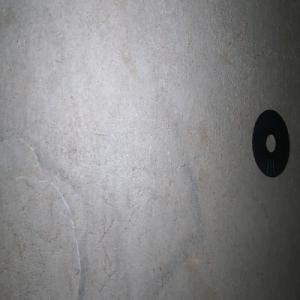Washer: (251, 109, 289, 177)
